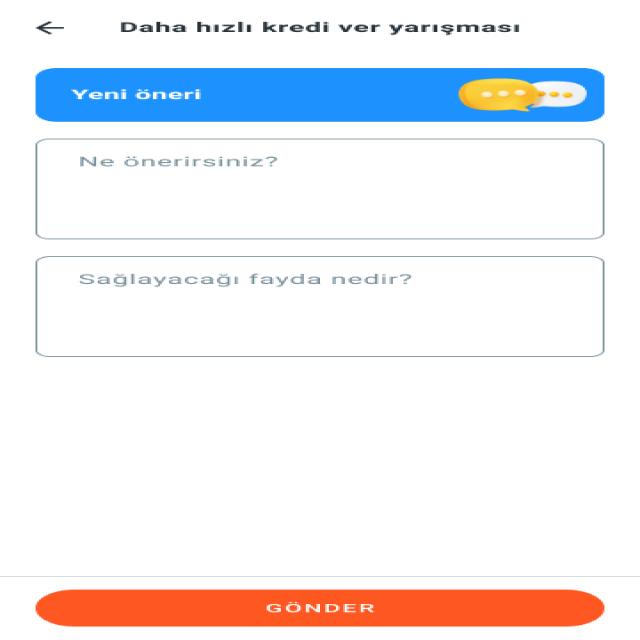QLabel: (115, 20, 524, 37), (66, 86, 210, 104), (258, 602, 378, 615)
VAppBar: (0, 0, 640, 52)
VBtn: (37, 588, 604, 628)
VCard: (33, 66, 607, 124)
VFooter: (0, 575, 640, 640)
VIcon: (30, 19, 70, 37)
VImg: (447, 76, 591, 114)
VTextarea: (33, 254, 607, 359), (36, 137, 607, 241)
